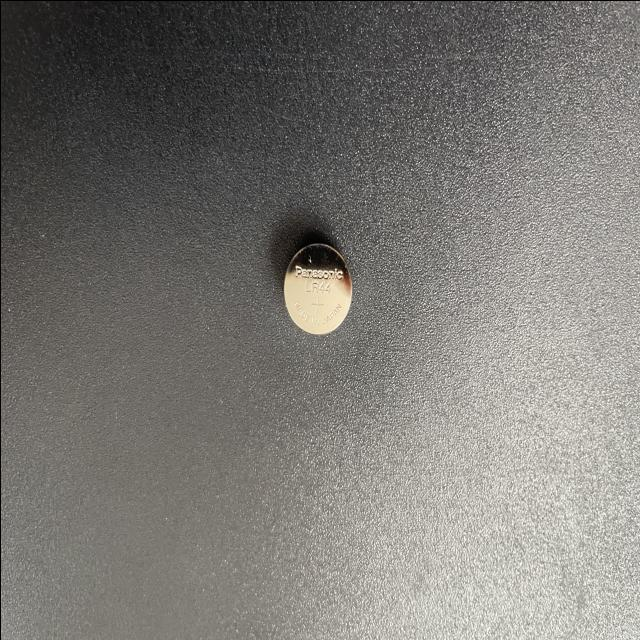COIN: (282, 241, 355, 333)
